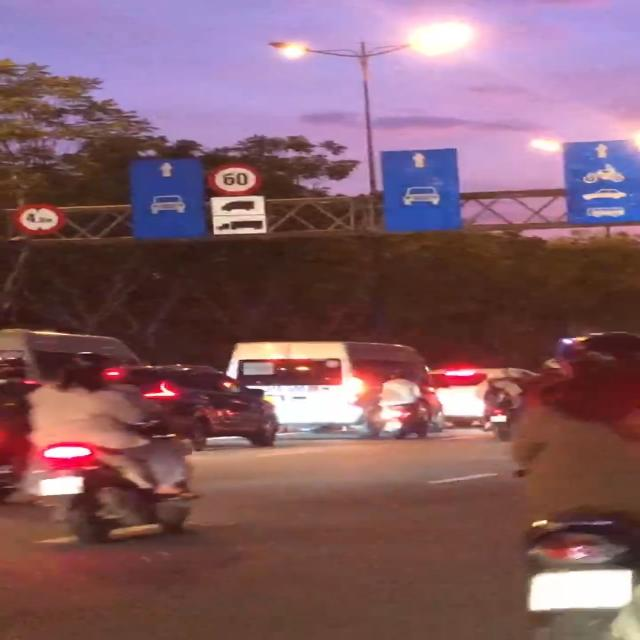Bien bao han che chieu cao: (10, 204, 69, 235)
Bien bao toc do toi da cho phep: (202, 164, 270, 197)
